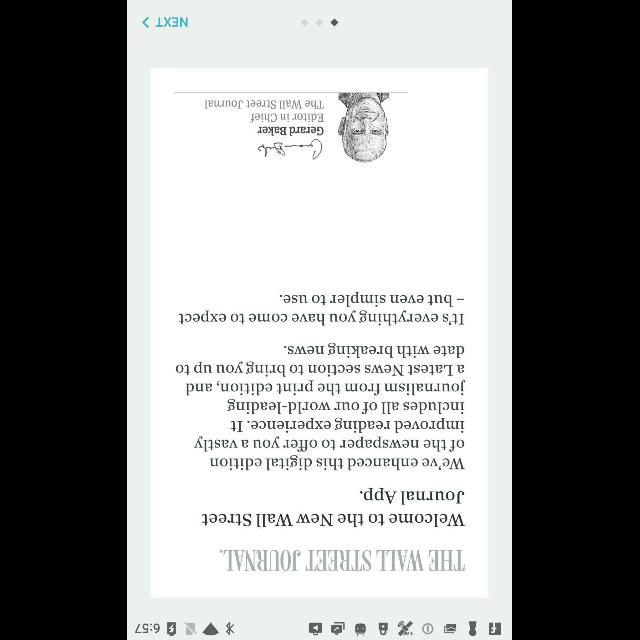icon: (142, 16, 150, 28)
image: (204, 100, 326, 160), (338, 94, 389, 162)
pageindicator: (301, 19, 339, 27)
text: (176, 343, 466, 471), (202, 487, 466, 527), (178, 292, 466, 326), (220, 549, 466, 571), (156, 17, 188, 27)
uppertaskbar: (128, 620, 512, 640)
